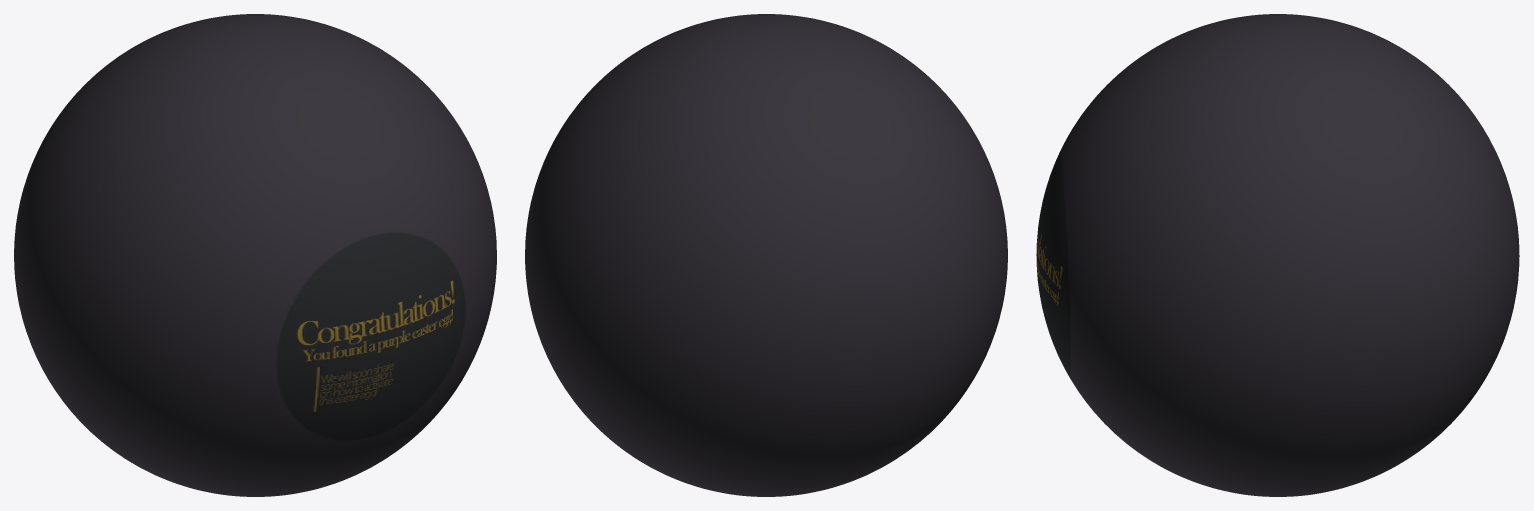
Rendered from 000_ARCover.glb.
The picture shows the model from 3 angles, left to right: view 1: azimuth 30°, elevation 25°; view 2: azimuth 150°, elevation 25°; view 3: azimuth 270°, elevation 25°; orthographic projection.
Visible parts, largest first — view 1: Object_2_n3d; view 2: Object_2_n3d; view 3: Object_2_n3d.
Boxes of the visible parts, x1,y1,x2,y2 form: Object_2_n3d: [14, 14, 496, 496]; Object_2_n3d: [525, 14, 1007, 496]; Object_2_n3d: [1036, 14, 1519, 496].
Bounding box in the file's own units: 0.3501 × 0.3501 × 0.3501.
Materials: 1 (1 with a texture image).
